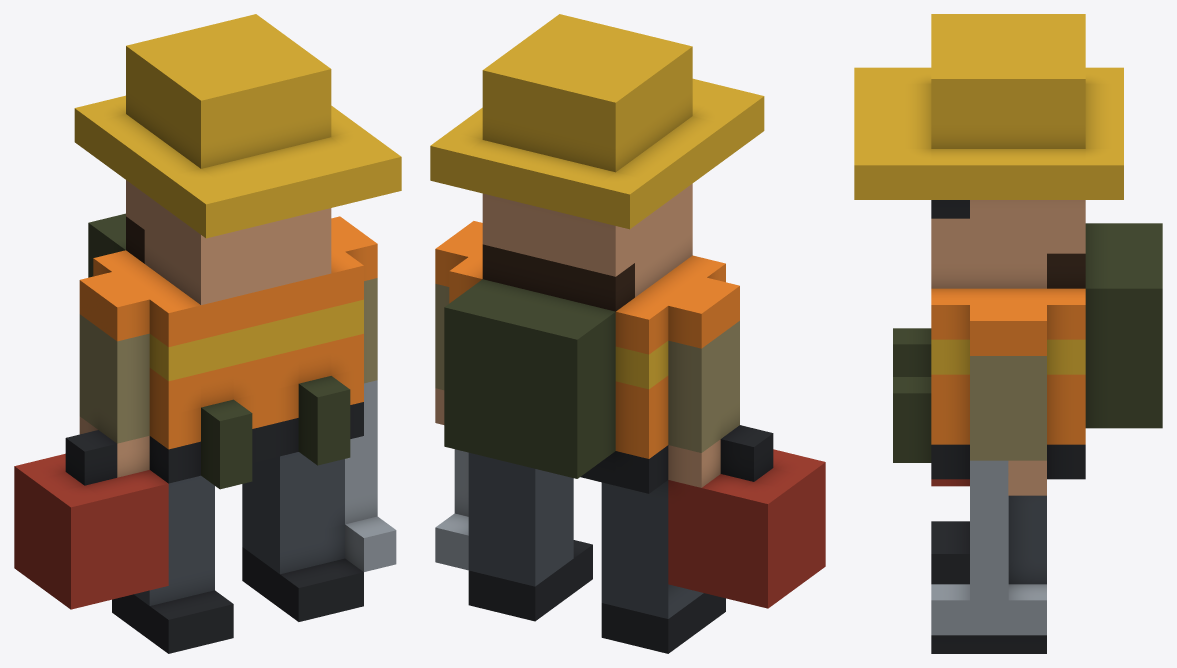
Rendered from cm_engineer_5.glb.
The picture shows the model from 3 angles, left to right: view 1: azimuth 30°, elevation 25°; view 2: azimuth 150°, elevation 25°; view 3: azimuth 270°, elevation 25°; orthographic projection. The views are drawn at different scales.
Parts seen in each view (by area): view 1: cm_engineer_5_body; view 2: cm_engineer_5_body; view 3: cm_engineer_5_body.
Boxes of the visible parts, box(x1,y1,x2,y2) form: cm_engineer_5_body: box(14, 14, 401, 653); cm_engineer_5_body: box(430, 14, 825, 653); cm_engineer_5_body: box(854, 14, 1162, 653).
Size of the model in its own units: 0.625 by 1 by 0.5.
Materials: 1 (1 with a texture image).
